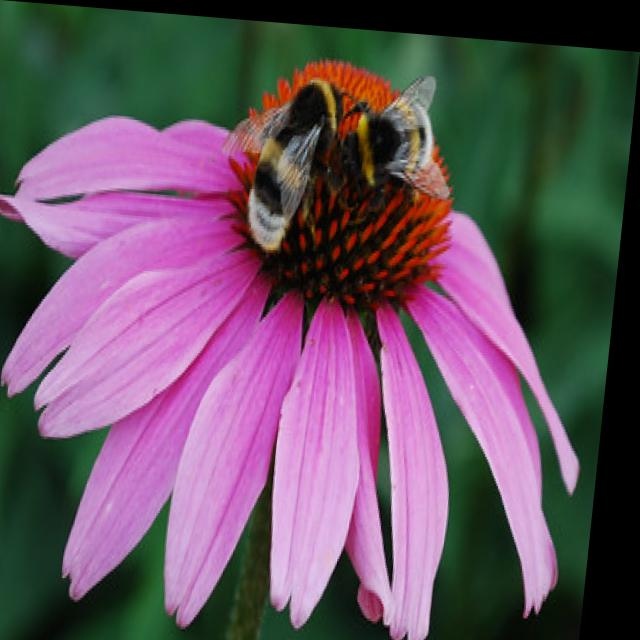Abeille: (208, 45, 354, 256), (346, 44, 474, 203)
